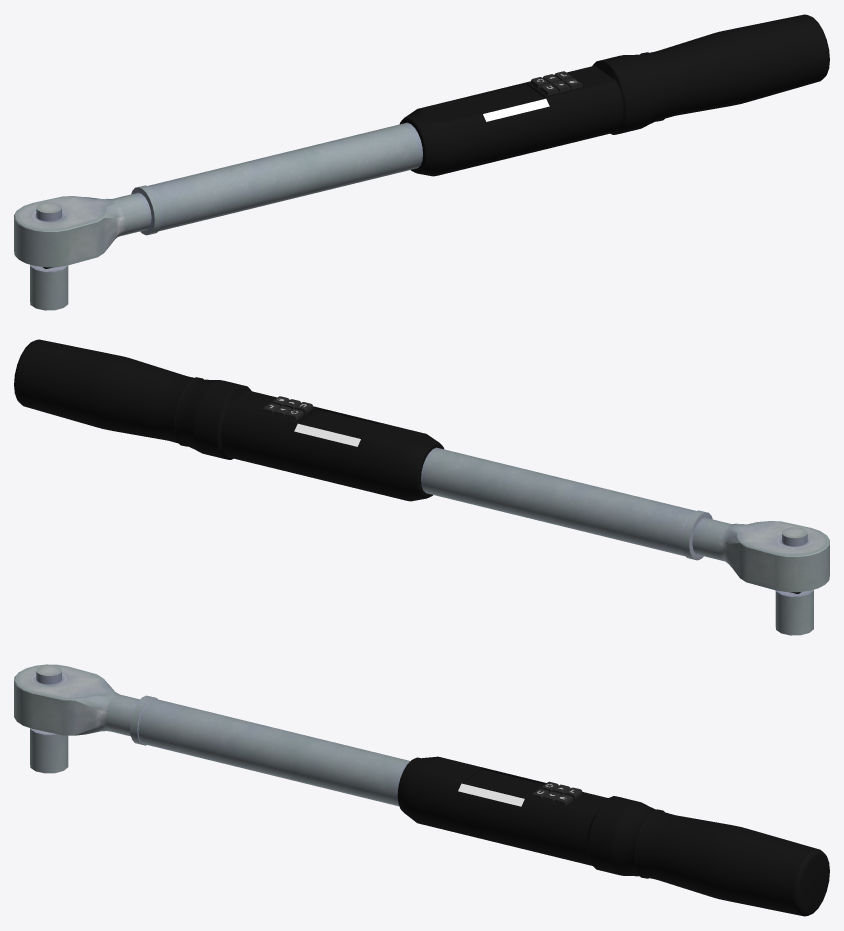
Rendered from key.fbx.
3 views of the same model, one above another, from view 1: azimuth 30°, elevation 25°; view 2: azimuth 150°, elevation 25°; view 3: azimuth 330°, elevation 25° (orthographic).
Visible parts, largest first — view 1: key_geo, lamp_five_glass; view 2: key_geo, lamp_five_glass; view 3: key_geo, lamp_five_glass.
Part boxes in pixels (bbox=[...]): key_geo: bbox=[14, 14, 829, 310]; lamp_five_glass: bbox=[483, 98, 549, 121]; key_geo: bbox=[14, 339, 829, 635]; lamp_five_glass: bbox=[294, 423, 360, 446]; key_geo: bbox=[14, 664, 829, 916]; lamp_five_glass: bbox=[458, 783, 524, 806].
Size of the model in its own units: 38.92 by 4.82 by 3.25.
4 materials, 1 textured.
